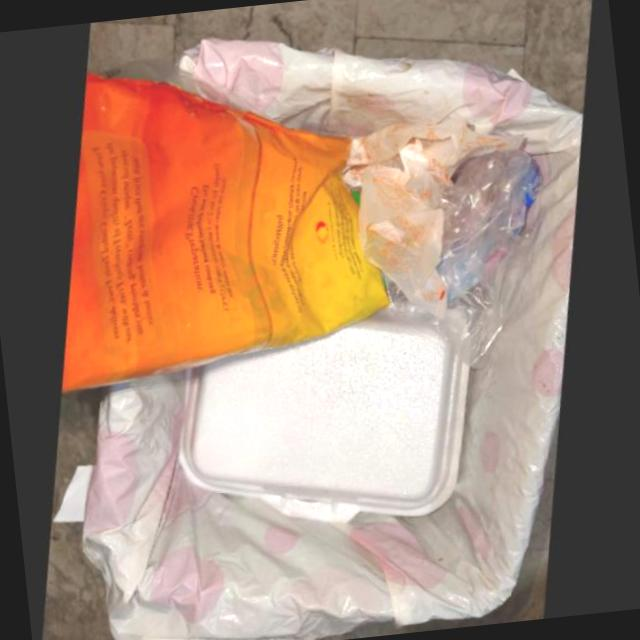bao_bi_thuc_pham: (64, 70, 393, 390)
giay: (342, 117, 525, 314)
tui_ni_long: (388, 148, 545, 364)
xop: (181, 299, 473, 521)
